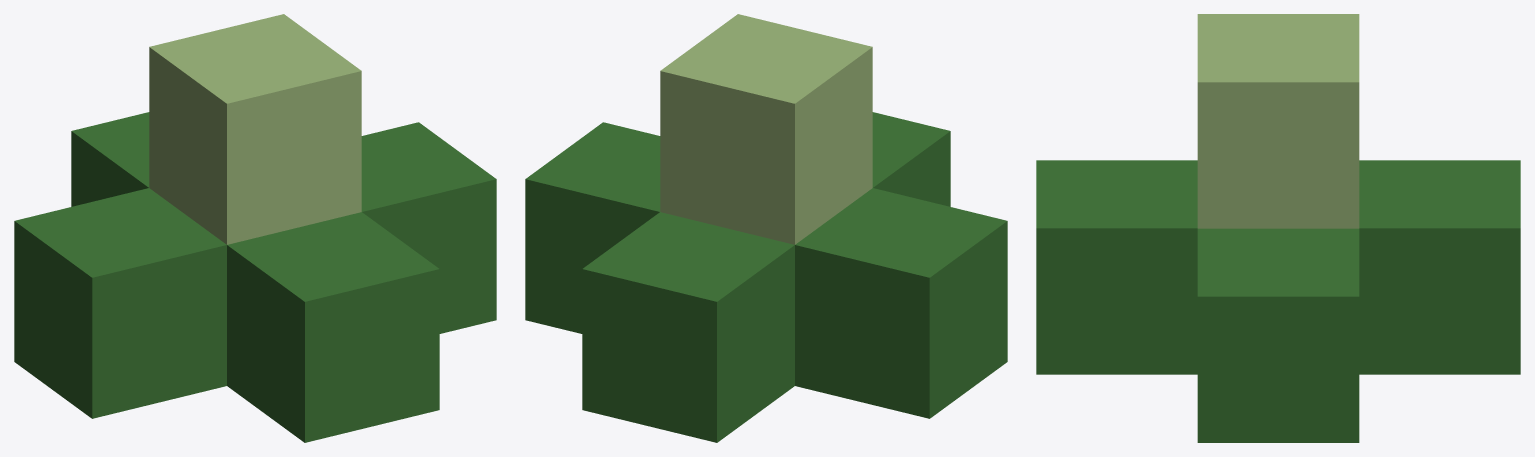
Rendered from farm-36-cauliflower_growth1.obj.
3 views of the same model, side by side, from view 1: azimuth 30°, elevation 25°; view 2: azimuth 150°, elevation 25°; view 3: azimuth 270°, elevation 25° (orthographic). The views are drawn at different scales.
Parts seen in each view (by area): view 1: cauliflower_growth1; view 2: cauliflower_growth1; view 3: cauliflower_growth1.
Boxes of the visible parts, x1=… form: cauliflower_growth1: x1=14, y1=14, x2=496, y2=442; cauliflower_growth1: x1=525, y1=14, x2=1007, y2=442; cauliflower_growth1: x1=1036, y1=14, x2=1520, y2=442.
Bounding box in the file's own units: 0.3 × 0.2 × 0.3.
1 material, 1 textured.
